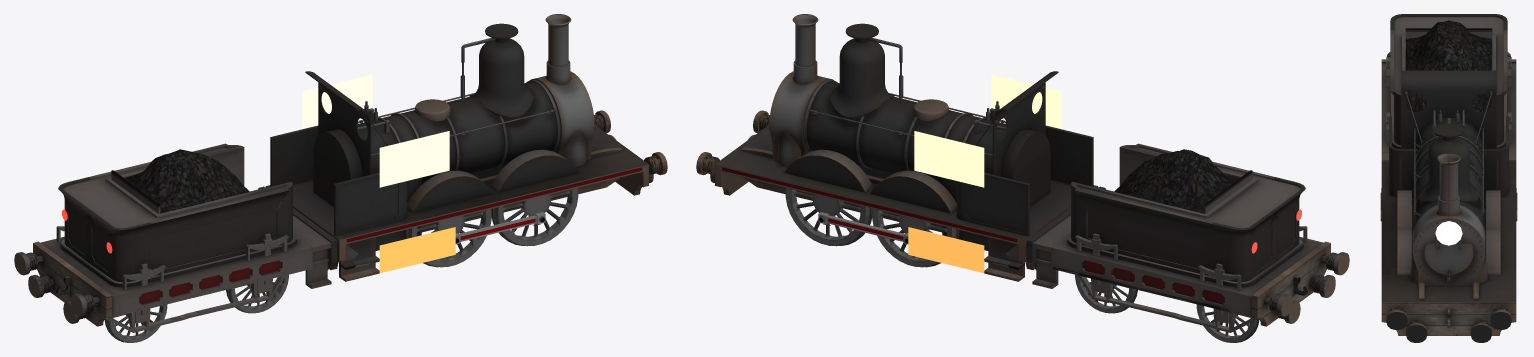
File: loco040.glb
The picture shows the model from 3 angles, left to right: view 1: azimuth 30°, elevation 25°; view 2: azimuth 150°, elevation 25°; view 3: azimuth 270°, elevation 25°; orthographic projection. The views are drawn at different scales.
Visible parts, largest first — view 1: Cube.005, Cylinder.002, cabwin_L, Cylinder.003, firebox_L, cabwin_R, Cylinder.001, Cube, Cylinder.004, Cylinder.000; view 2: Cube.005, Cylinder.002, cabwin_R, Cylinder.003, firebox_R, cabwin_L, Cylinder.001, Cube, Cylinder.004, Cylinder.000; view 3: Cube.005, Cylinder.002, headlamp.
Part boxes in pixels (<box>): Cube.005: <box>265,14,667,281</box>; Cylinder.002: <box>14,143,337,332</box>; cabwin_L: <box>379,131,449,187</box>; Cylinder.003: <box>491,188,578,246</box>; firebox_L: <box>379,227,455,273</box>; cabwin_R: <box>302,74,372,129</box>; Cylinder.001: <box>404,209,491,267</box>; Cube: <box>455,212,545,244</box>; Cylinder.004: <box>104,304,167,342</box>; Cylinder.000: <box>226,274,288,313</box>; Cube.005: <box>696,14,1098,281</box>; Cylinder.002: <box>1026,143,1349,332</box>; cabwin_R: <box>914,131,984,187</box>; Cylinder.003: <box>785,188,872,246</box>; firebox_R: <box>908,227,984,273</box>; cabwin_L: <box>991,74,1061,129</box>; Cylinder.001: <box>872,209,959,267</box>; Cube: <box>818,212,908,244</box>; Cylinder.004: <box>1196,304,1259,342</box>; Cylinder.000: <box>1075,274,1137,313</box>; Cube.005: <box>1380,70,1517,342</box>; Cylinder.002: <box>1381,14,1516,192</box>; headlamp: <box>1435,221,1462,245</box>.
Size of the model in its own units: 10.32 by 3.36 by 2.35.
Materials: 6 (2 with a texture image).
